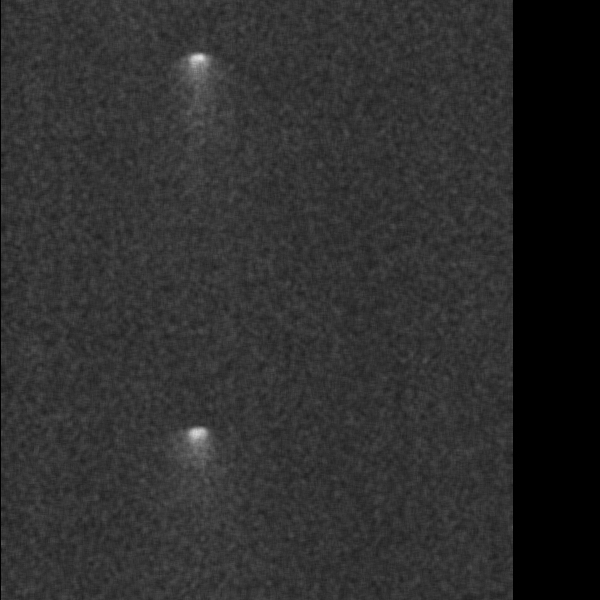spark: (175, 422, 219, 480), (173, 48, 220, 95)
